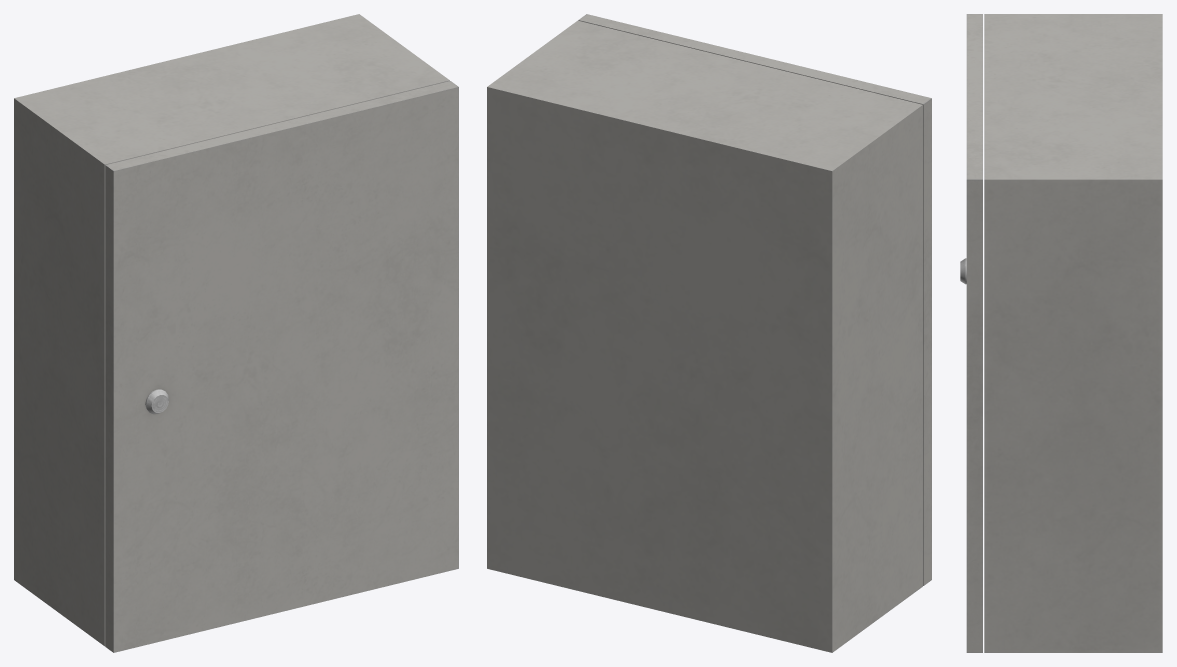
File: SM05_Industrial_Enclosure_01.fbx
3 views of the same model, side by side, from view 1: azimuth 30°, elevation 25°; view 2: azimuth 150°, elevation 25°; view 3: azimuth 270°, elevation 25° (orthographic).
Parts seen in each view (by area): view 1: SM05_Industrial_Enclosure_01; view 2: SM05_Industrial_Enclosure_01; view 3: SM05_Industrial_Enclosure_01.
Part boxes in pixels (left/top/right/bottom): SM05_Industrial_Enclosure_01: left=14, top=14, right=458, bottom=652; SM05_Industrial_Enclosure_01: left=487, top=14, right=931, bottom=652; SM05_Industrial_Enclosure_01: left=960, top=14, right=1162, bottom=652.
Size of the model in its own units: 0.6 by 0.8 by 0.31.
